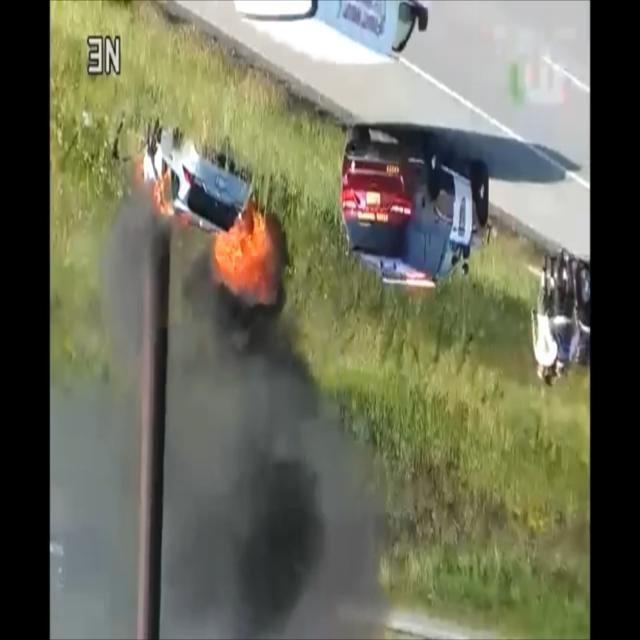fire: (214, 211, 286, 324), (134, 155, 202, 239)
